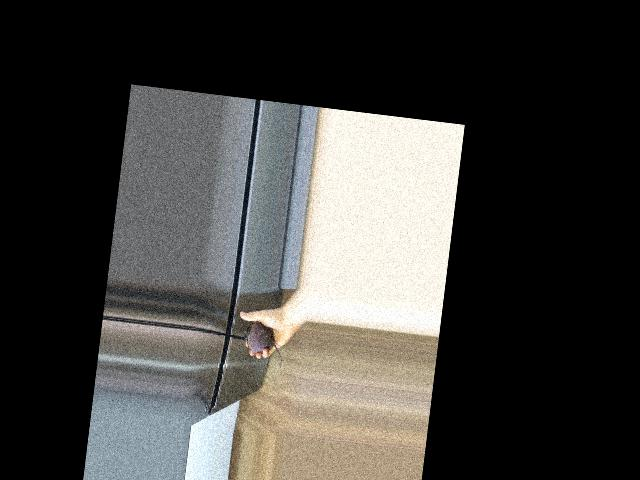beet: (240, 320, 286, 369)
